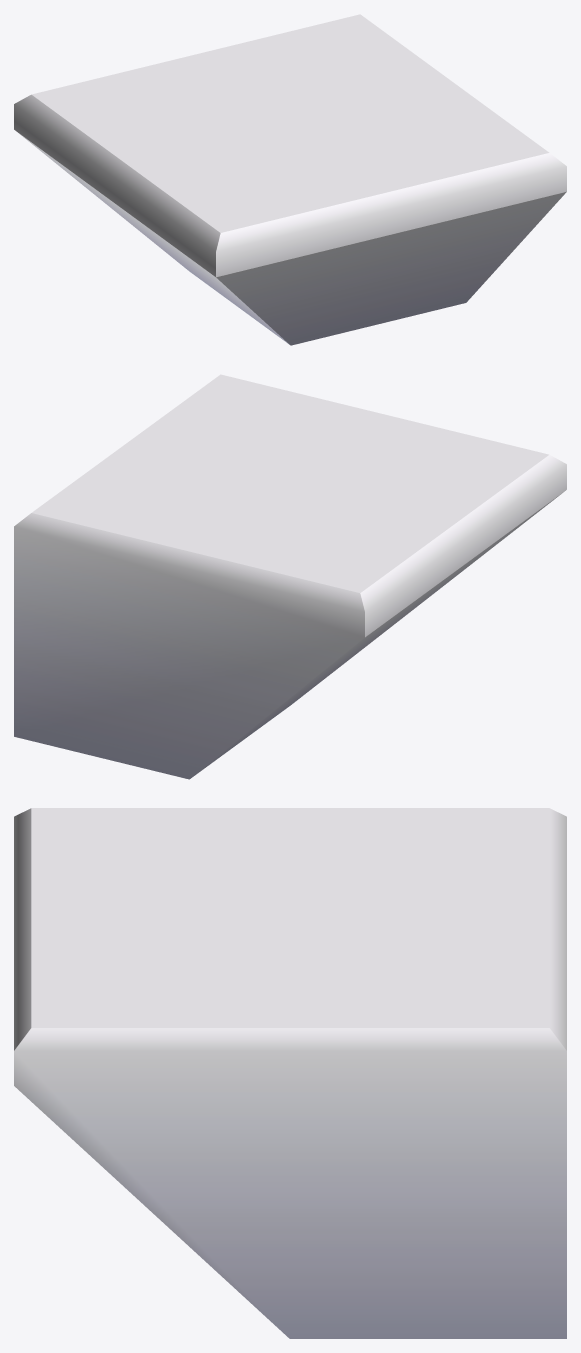
File: kenney-brick-none-hq-brick-slope-corner-outside-inverted-2-x-2.glb
The picture shows the model from 3 angles, top to bottom: view 1: azimuth 30°, elevation 25°; view 2: azimuth 150°, elevation 25°; view 3: azimuth 270°, elevation 25°; orthographic projection. The views are drawn at different scales.
Parts seen in each view (by area): view 1: none-hq-brick-slope-corner-outside-inverted-2x2; view 2: none-hq-brick-slope-corner-outside-inverted-2x2; view 3: none-hq-brick-slope-corner-outside-inverted-2x2.
Boxes of the visible parts, x1=… form: none-hq-brick-slope-corner-outside-inverted-2x2: x1=14, y1=14, x2=566, y2=345; none-hq-brick-slope-corner-outside-inverted-2x2: x1=14, y1=374, x2=566, y2=779; none-hq-brick-slope-corner-outside-inverted-2x2: x1=14, y1=808, x2=566, y2=1338.
Bounding box in the file's own units: 0.159 × 0.096 × 0.1585.
1 material, 1 textured.
